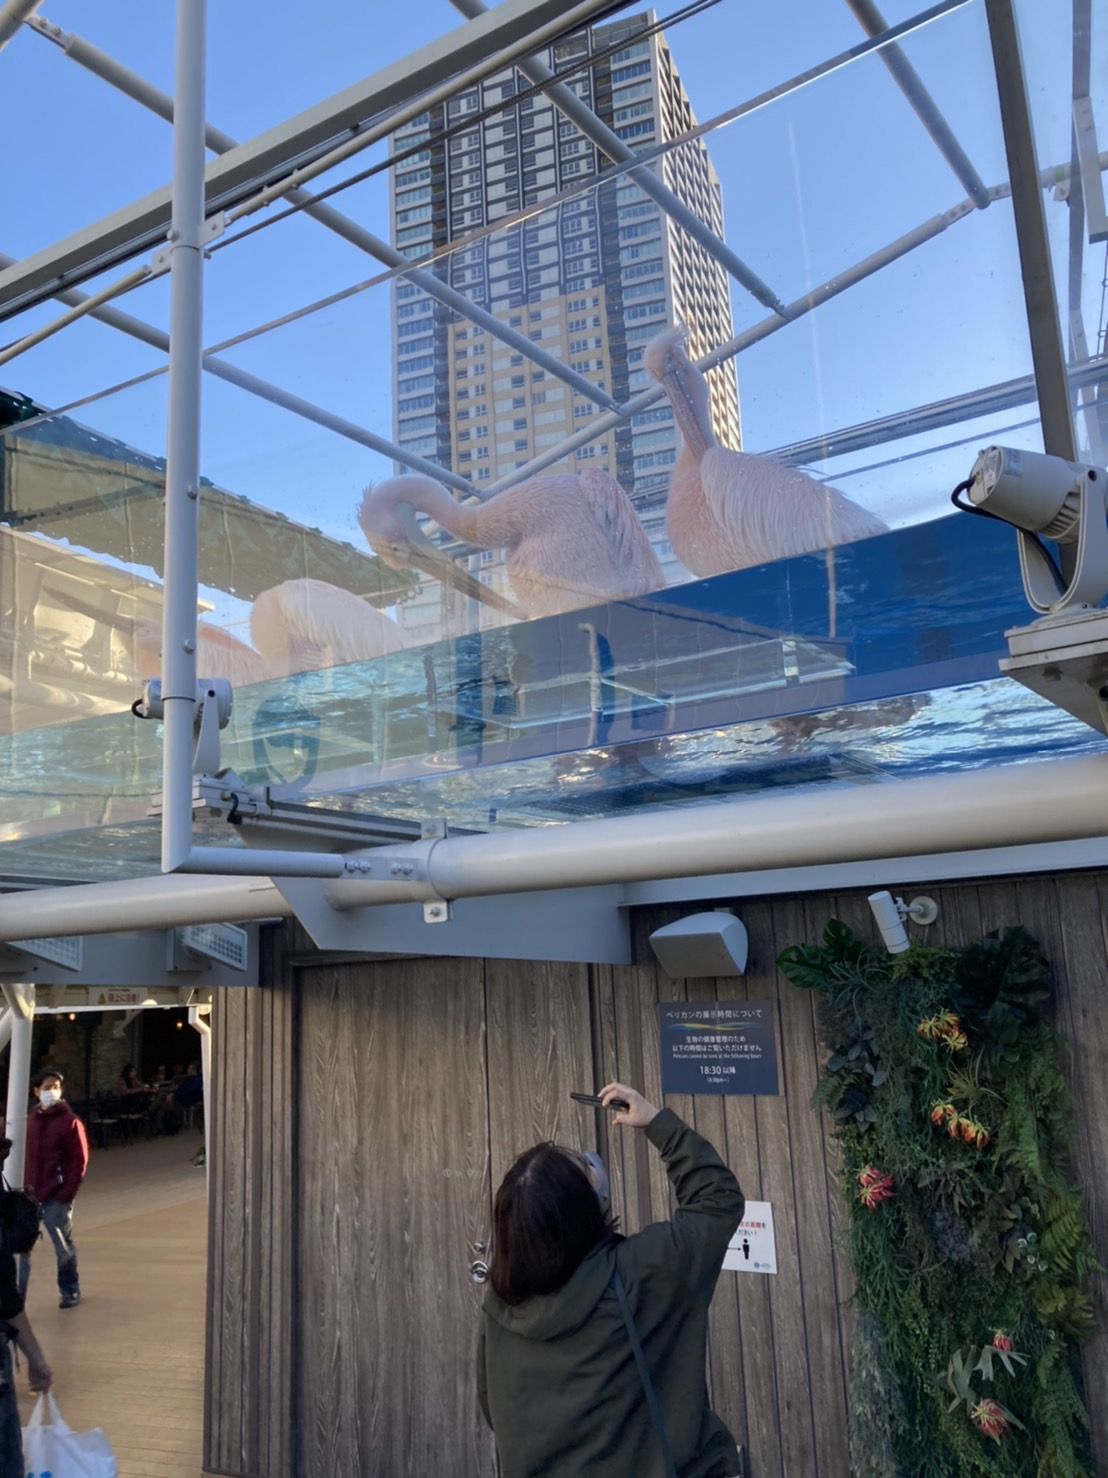female: (467, 1083, 757, 1478)
